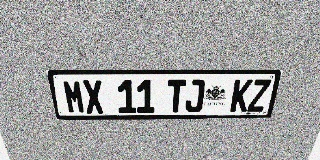1: (116, 80, 136, 113), (136, 80, 154, 113)
J: (185, 80, 205, 112)
K: (230, 79, 253, 112)
M: (62, 80, 86, 114)
T: (167, 80, 186, 113)
X: (82, 80, 104, 113)
Z: (247, 79, 271, 112)
